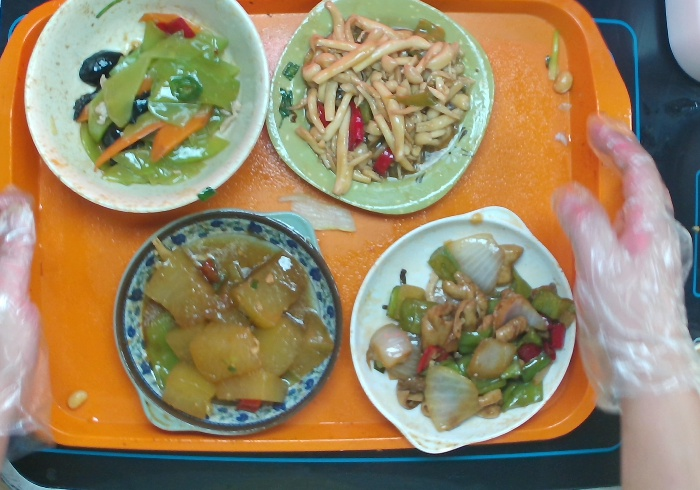NLDX-Bai_Se_Shuang_Er_Die: (349, 203, 580, 460)
NLDX-Bai_Se_Yuan_Wan: (19, 1, 270, 215)
NLDX-Lv_Hua_Fang_Die: (266, 1, 497, 218)
NLDX-Qing_Hua_Shuang_Er_Die: (106, 206, 344, 445)
